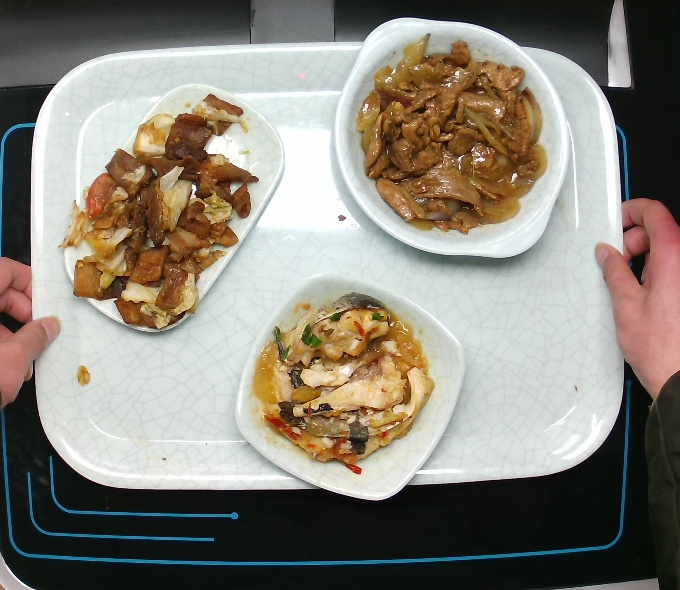wcq-DuoJiaoYuKuai: (256, 294, 439, 474)
wcq-PaoCaiRouPian: (55, 93, 272, 339)
wcq-YangCongRouPian: (348, 29, 558, 240)
